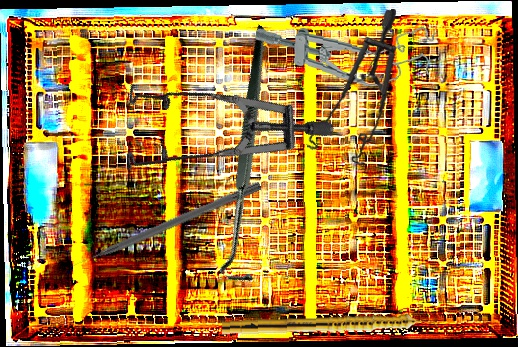Handpiece: (221, 313, 439, 339)
Hook Surgical: (129, 24, 376, 291)
Pusher: (67, 179, 263, 271)
Speculum: (90, 19, 339, 255), (293, 9, 412, 171), (252, 14, 437, 92)
